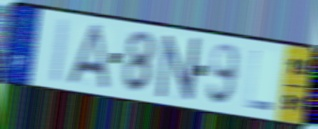8: (122, 29, 157, 96)
9: (206, 42, 241, 107)
A: (66, 22, 110, 90)
I: (47, 16, 72, 86)
L: (244, 48, 274, 114)
N: (156, 33, 202, 103)
